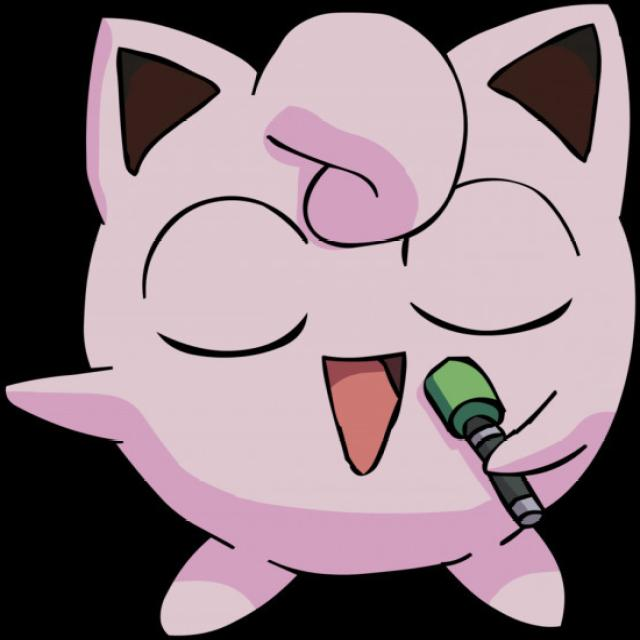Jigglypuff: (76, 7, 634, 635)
